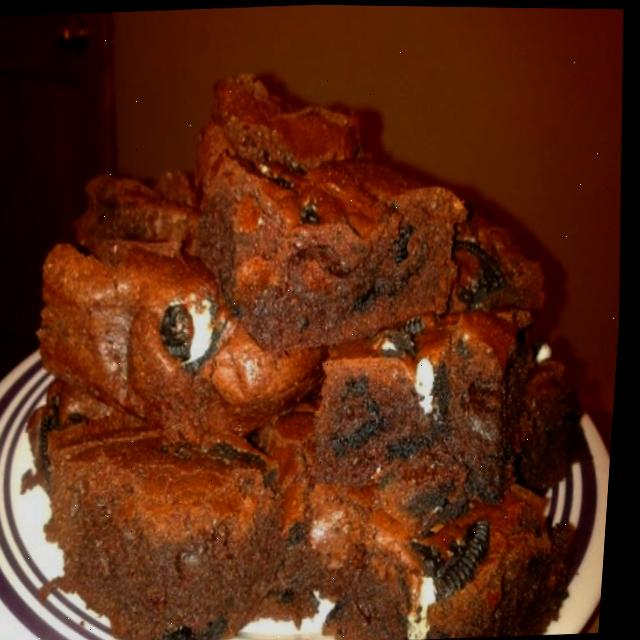蛋糕甜品: (0, 19, 639, 640)
